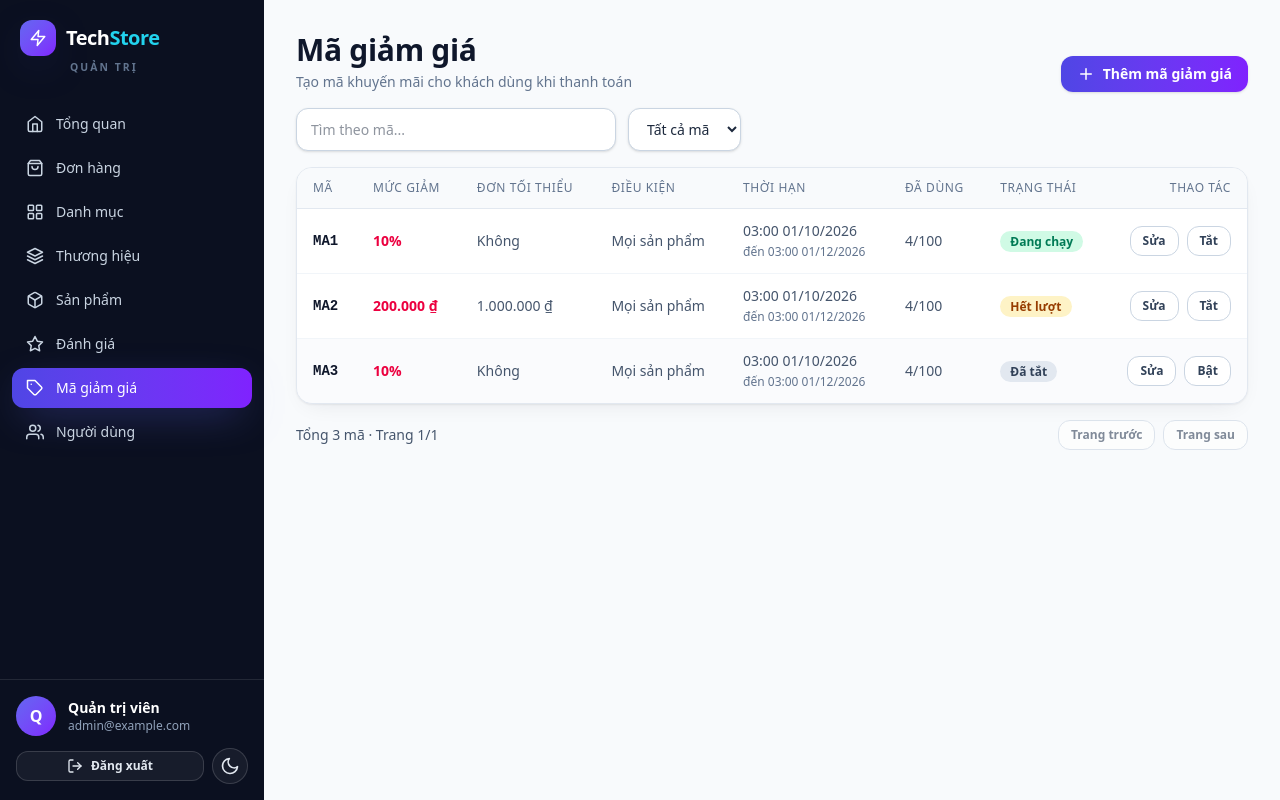
Sửa và bật/tắt mã giảm giá (US-24 AC2) › tắt mã bị lỗi thì báo lỗi
The image size is (1280, 800).
Click the button with aria-label "Tắt mã MA1" at coordinates (1209, 241), box [1186, 226, 1231, 256]
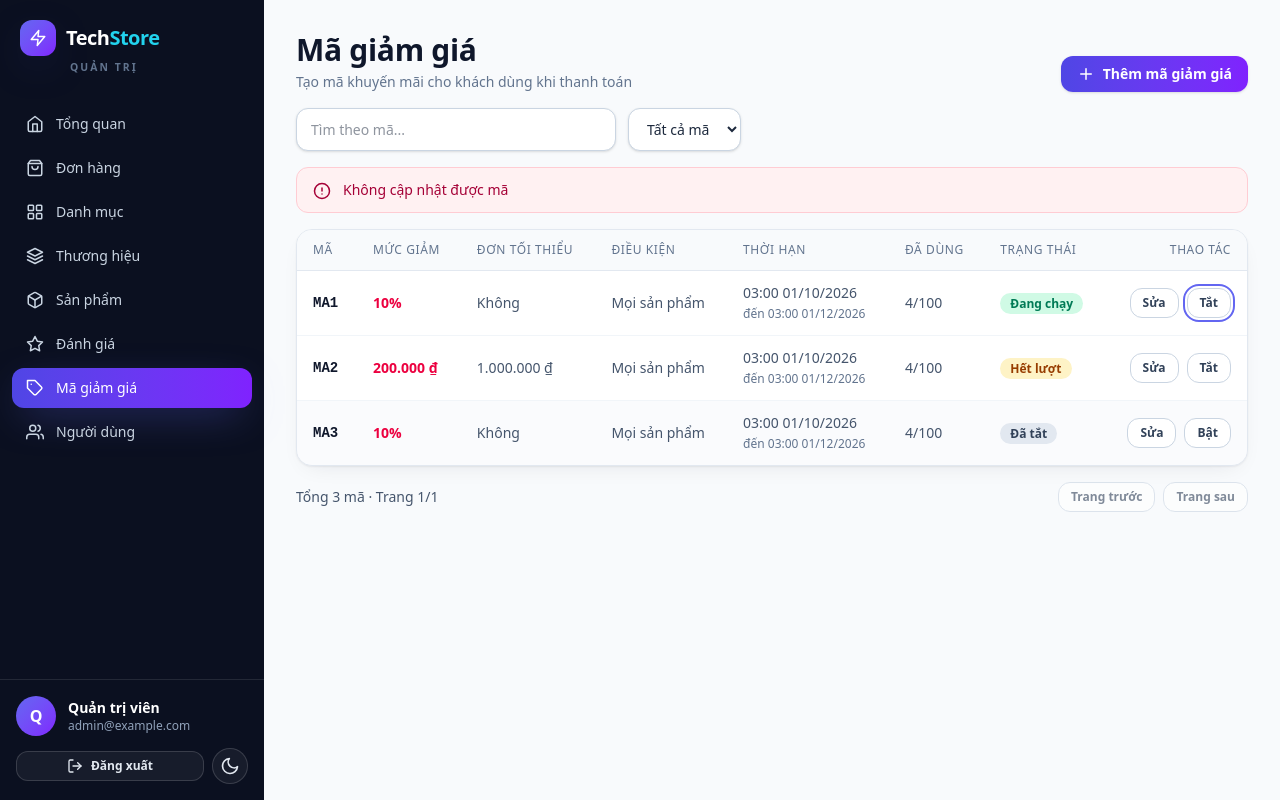
Result: the text "Không cập nhật được mã" is shown at [343, 180, 508, 200]
